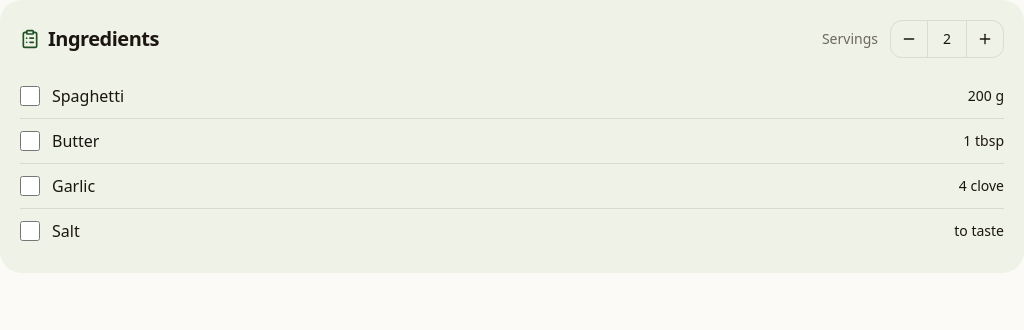
Test: rescales amounts, announces the new count and leaves "to taste" alone
Expected: the text "2" is shown, [927,21,967,57]
Expected: the text "Scaled from" is not shown
Click the button named "Increase servings" at point(985, 39), box [967,21,1003,57]
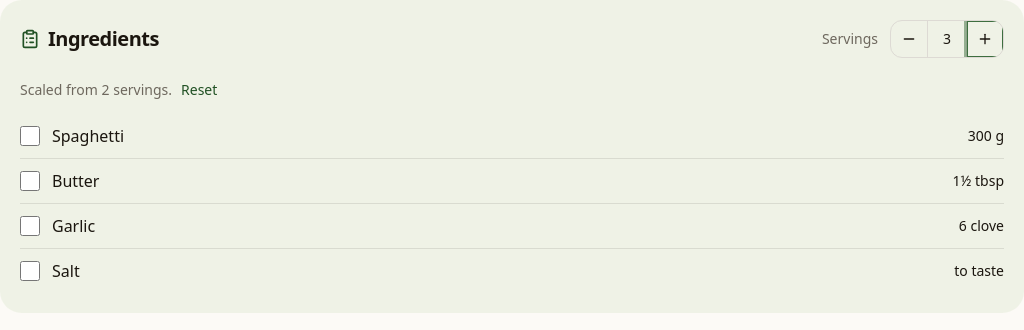
Expected: the text "3" is shown, [927,21,967,57]
Expected: the text "Scaled from 2 servings. Reset" is shown, [20,74,222,106]
